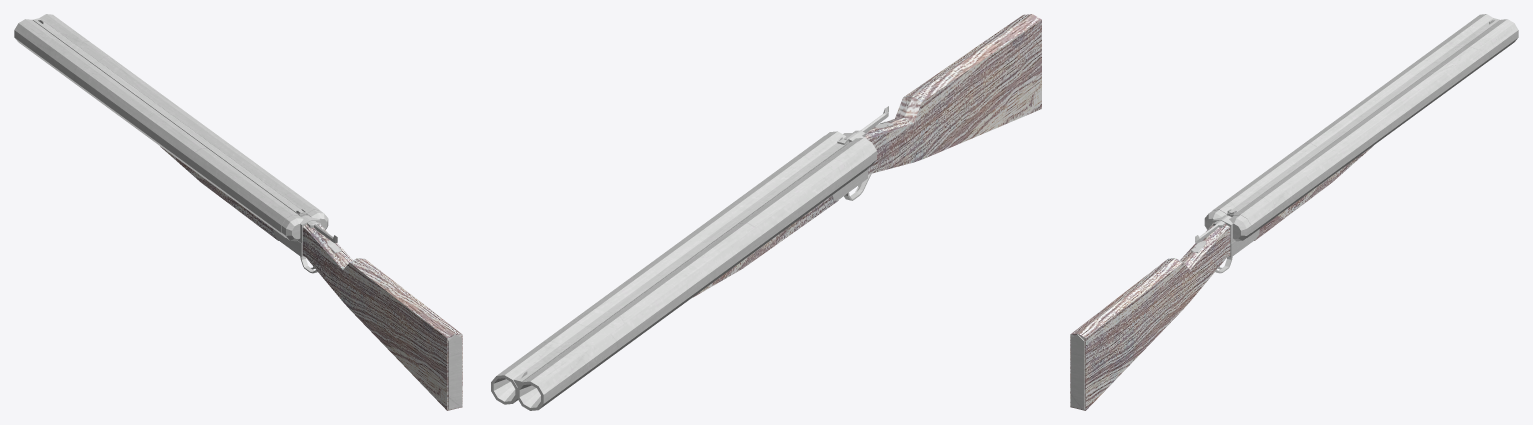
Rendered from Equine.fbx.
3 renders of one model, left to right at view 1: azimuth 30°, elevation 25°; view 2: azimuth 150°, elevation 25°; view 3: azimuth 330°, elevation 25°, orthographic. The views are drawn at different scales.
Parts seen in each view (by area): view 1: Barrel1, Wood2.001, Metal1.003, Plate1, Wood1.001; view 2: Barrel1, Wood2.001, Wood1.001, Metal1.003; view 3: Barrel1, Wood2.001, Metal1.003, Plate1, Wood1.001.
Part boxes in pixels (<box>): Barrel1: <box>14,14,319,237</box>; Wood2.001: <box>302,222,462,410</box>; Metal1.003: <box>273,210,328,257</box>; Plate1: <box>448,334,461,409</box>; Wood1.001: <box>160,146,278,240</box>; Barrel1: <box>491,135,871,410</box>; Wood2.001: <box>864,14,1041,174</box>; Wood1.001: <box>693,195,838,297</box>; Metal1.003: <box>825,131,876,200</box>; Barrel1: <box>1213,14,1518,237</box>; Wood2.001: <box>1070,222,1230,410</box>; Metal1.003: <box>1204,210,1259,257</box>; Plate1: <box>1071,334,1084,409</box>; Wood1.001: <box>1254,145,1373,240</box>.
Bounding box in the file's own units: 38.32 × 73.91 × 651.
